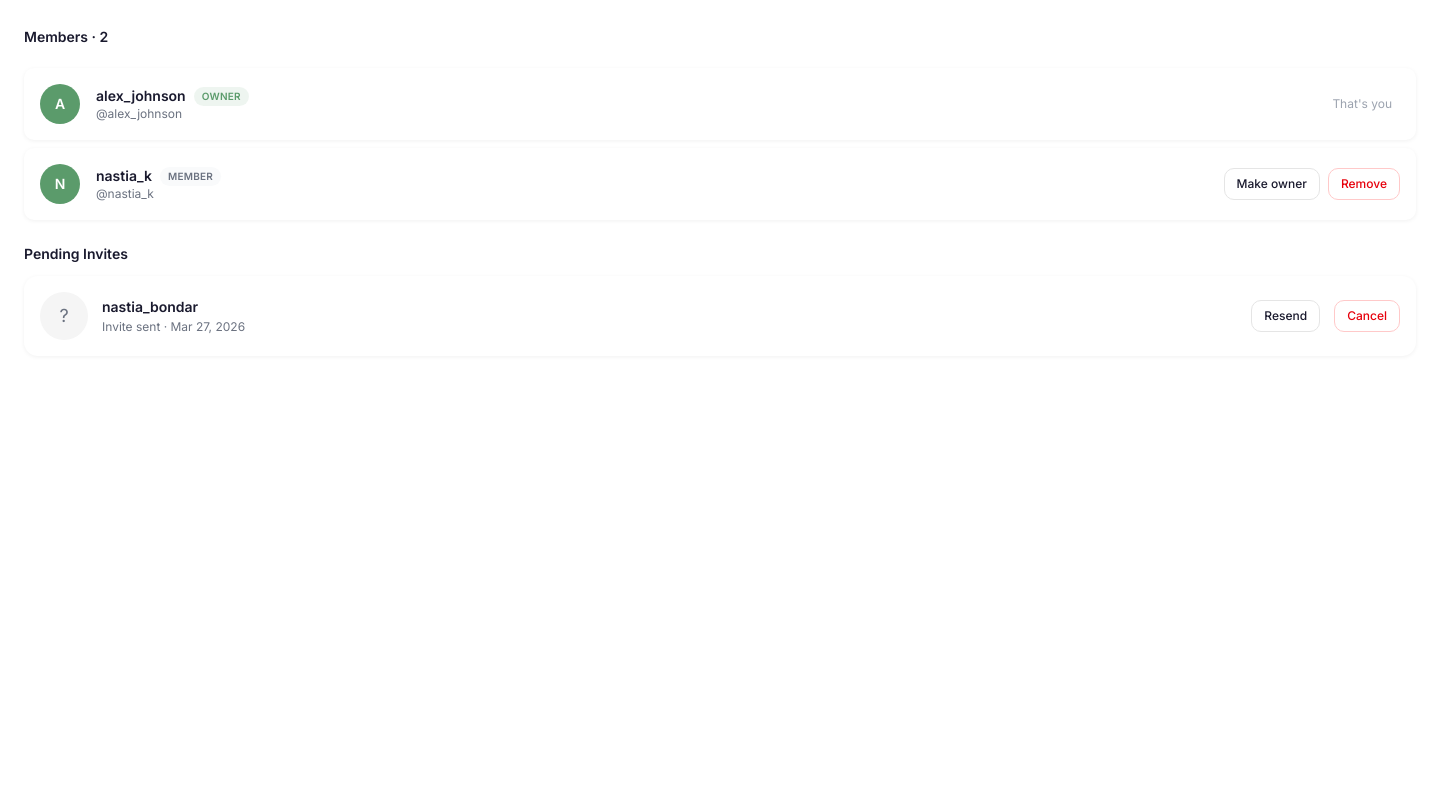
Scenario: LobbyMemberList › shows an inline error and keeps the dialog open when the make-owner PATCH fails
This screenshot has width=1440, height=810.
Expected: the text "nastia_k" is shown, [96,166,152,186]
Click the button "Make owner". click: (1272, 184)
box: [1224,168,1320,200]
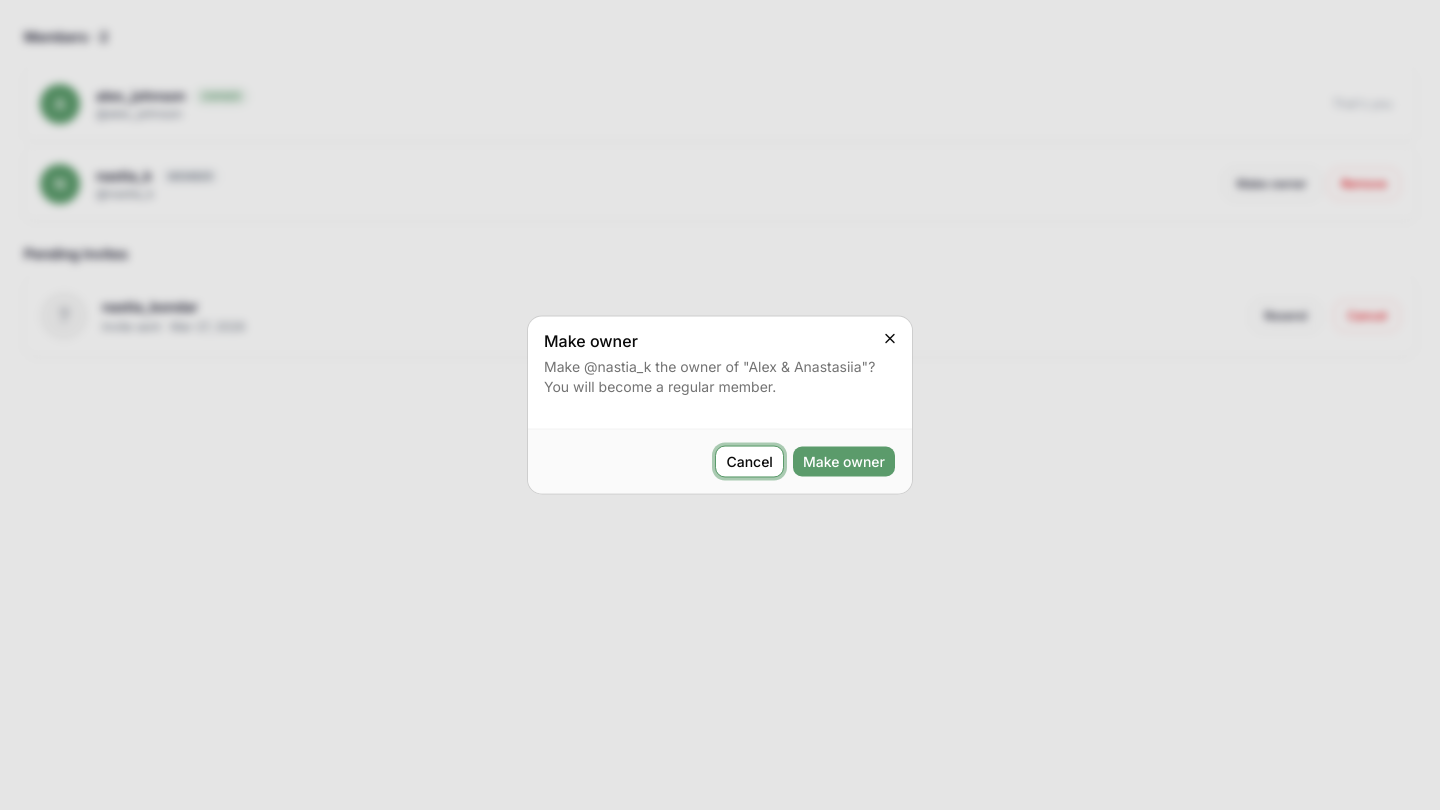
Click the button "Make owner". click: (844, 462)
box: [792,446,896,478]
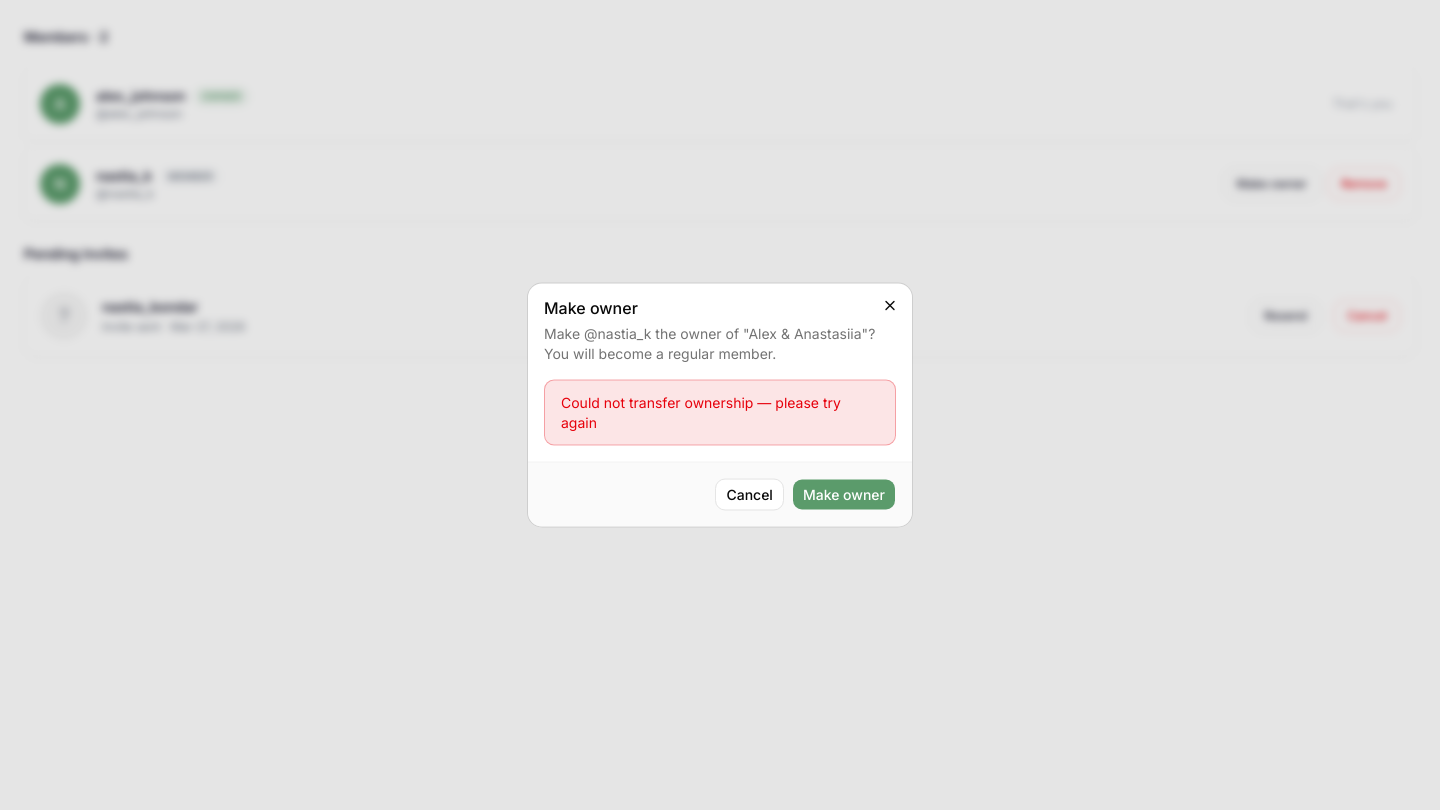
Now the text "Could not transfer ownership — please try again" is shown, box [561,392,879,432]
